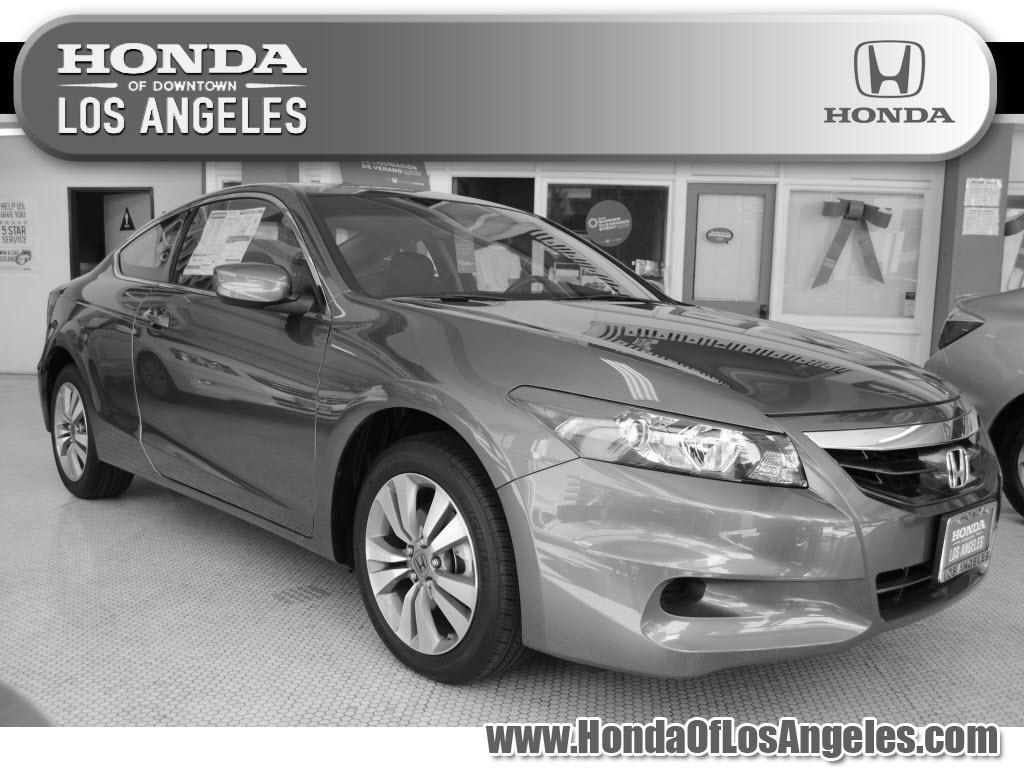car: (39, 183, 1007, 686)
